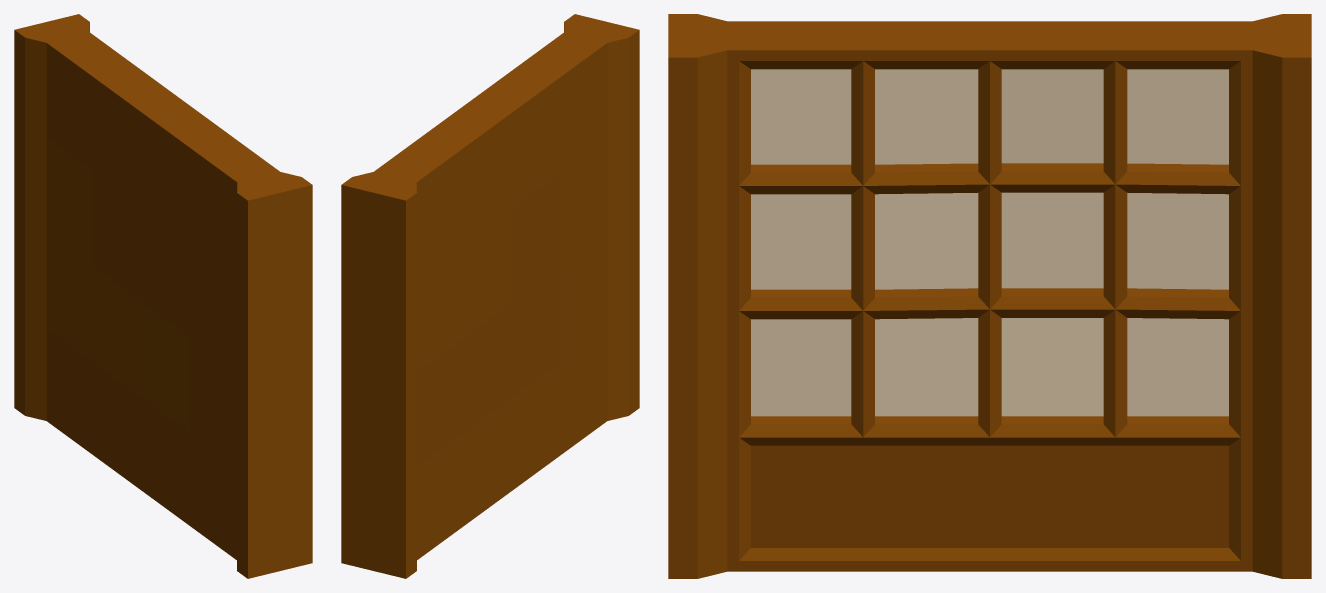
Rendered from BasicWall.fbx.
3 renders of one model, left to right at view 1: azimuth 30°, elevation 25°; view 2: azimuth 150°, elevation 25°; view 3: azimuth 270°, elevation 25°, orthographic. The views are drawn at different scales.
Visible parts, largest first — view 1: Wall; view 2: Wall; view 3: Wall.
Boxes of the visible parts, x1=… form: Wall: x1=14, y1=14, x2=312, y2=578; Wall: x1=341, y1=14, x2=639, y2=578; Wall: x1=668, y1=14, x2=1311, y2=578.
Bounding box in the file's own units: 87.26 × 487 × 545.
